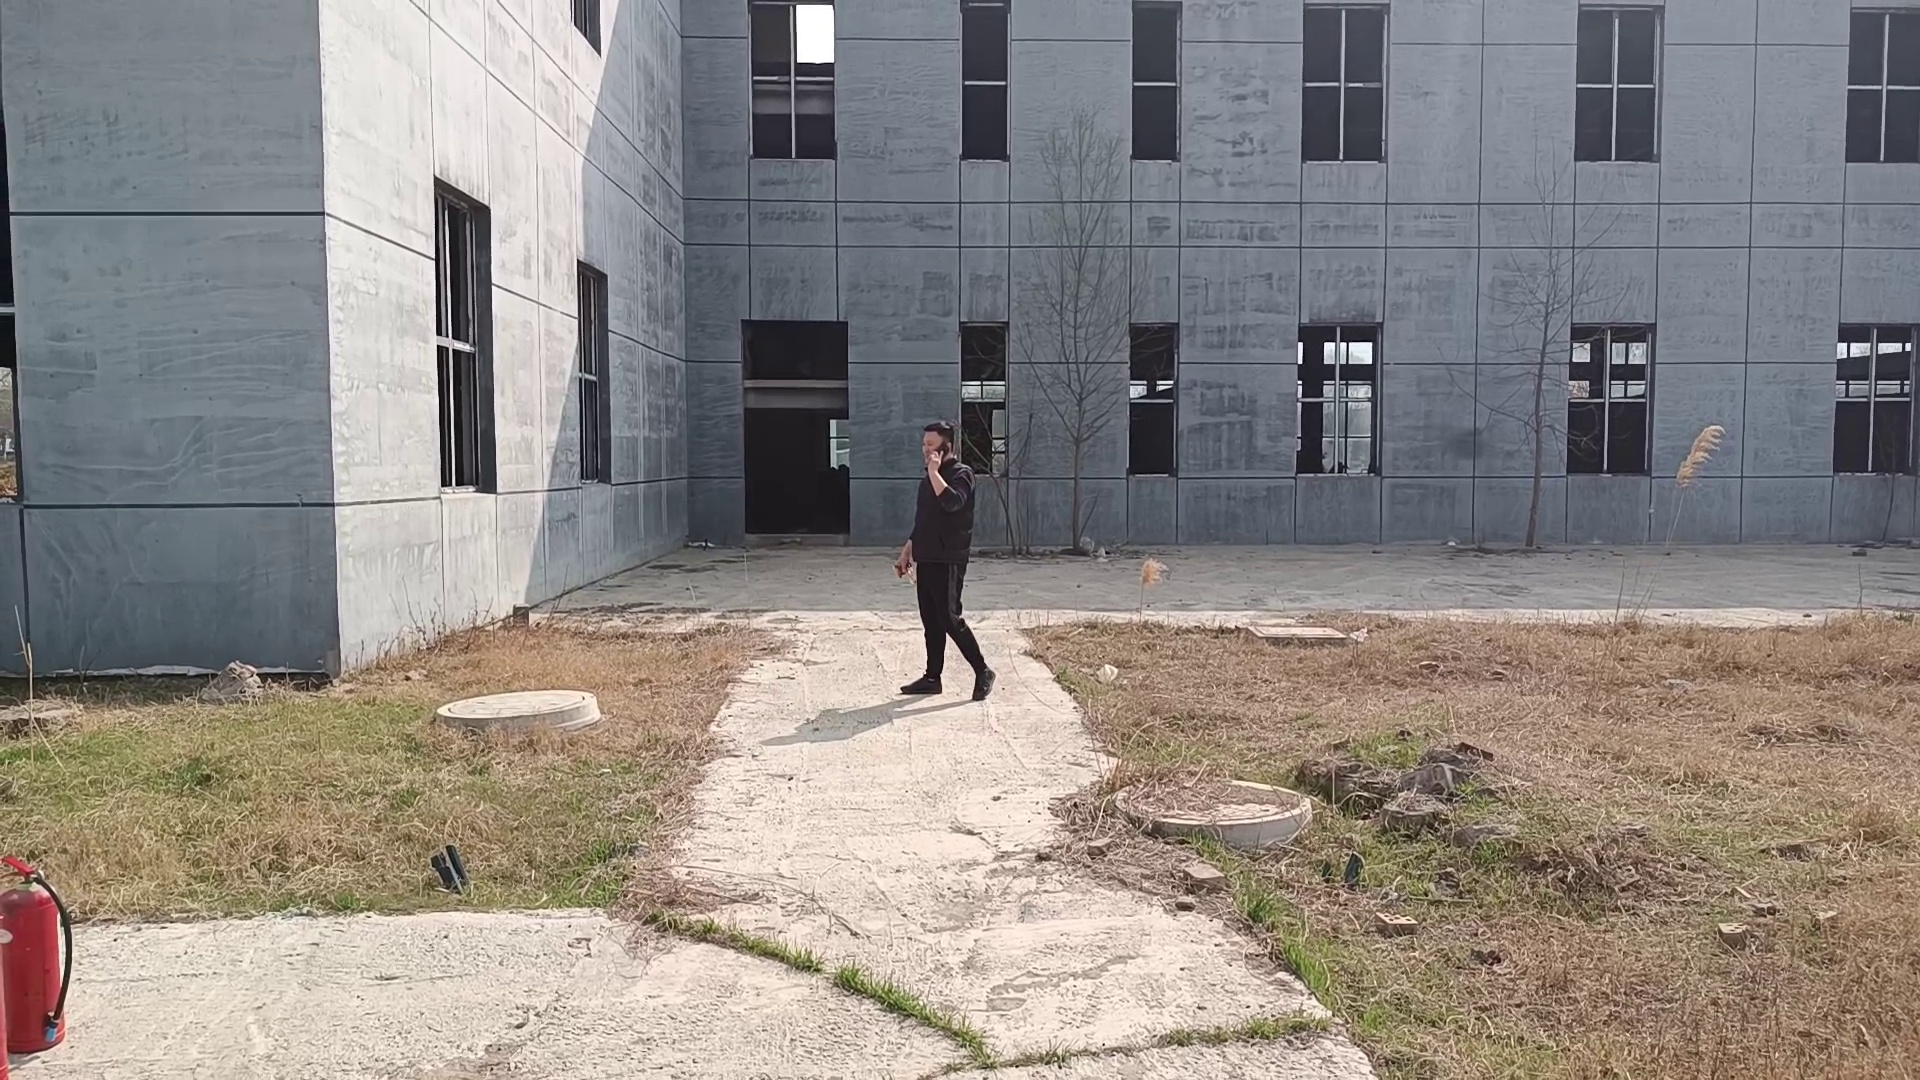phone: (913, 417, 964, 475)
